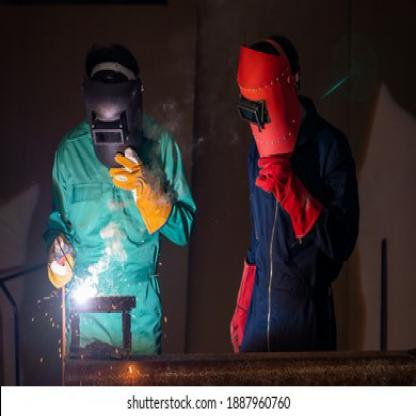with_gloves: (254, 154, 320, 238), (112, 149, 173, 233), (229, 256, 256, 352)
